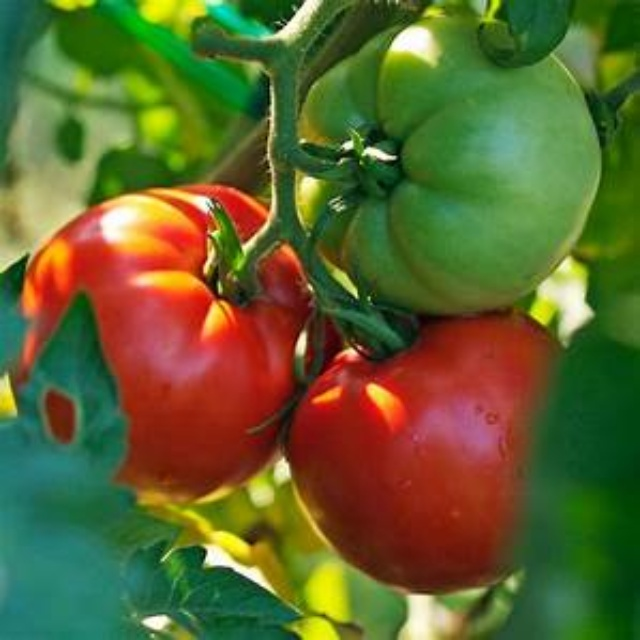tomato: (23, 175, 314, 505), (294, 29, 602, 310), (286, 309, 567, 593)
